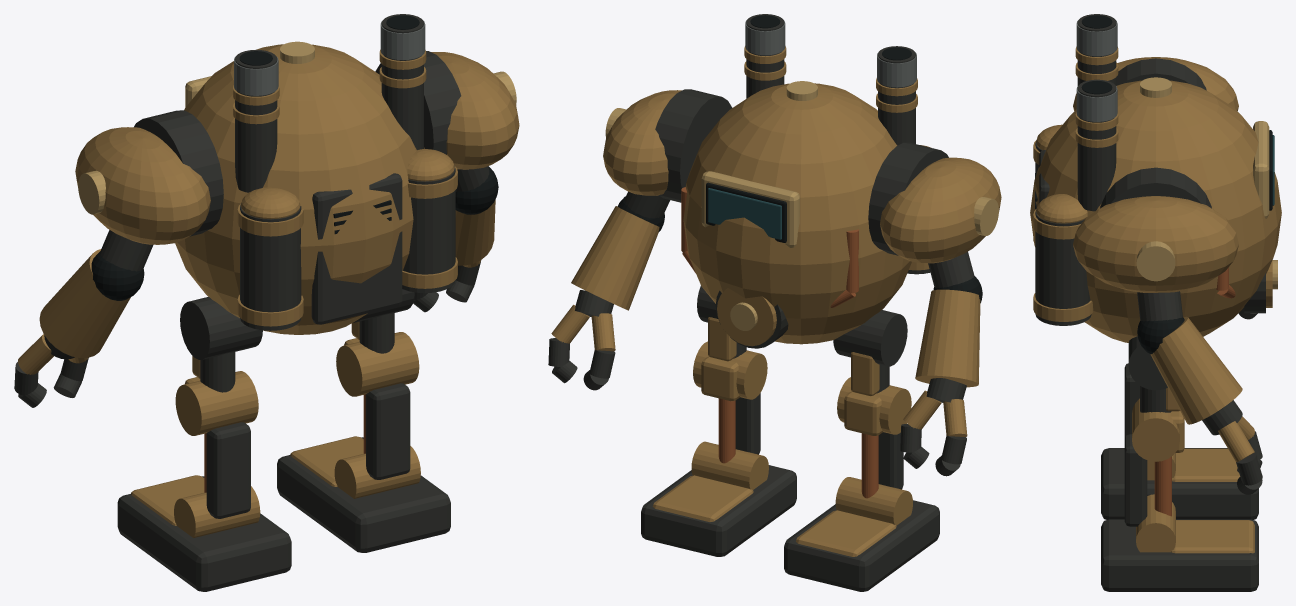
3 views of the same model, side by side, from view 1: azimuth 30°, elevation 25°; view 2: azimuth 150°, elevation 25°; view 3: azimuth 270°, elevation 25° (orthographic). The views are drawn at different scales.
Size of the model in its own units: 3.66 by 3.98 by 1.88.
